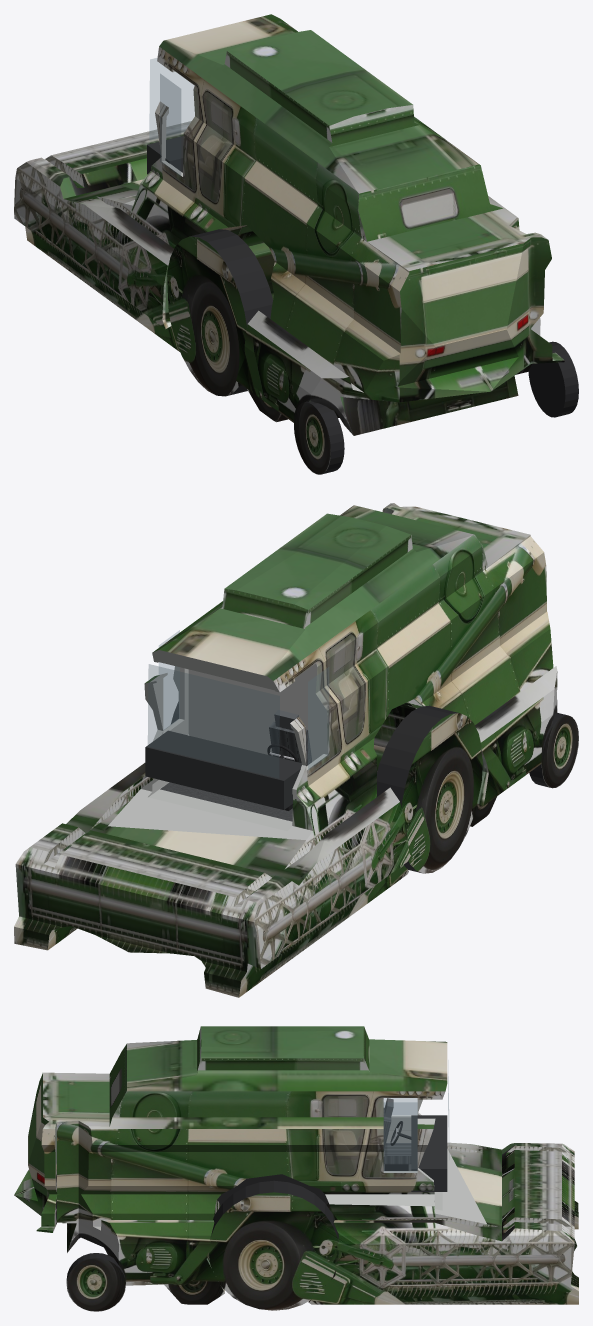
The model's file is combine_harvester.glb.
3 renders of one model, top to bottom at view 1: azimuth 30°, elevation 25°; view 2: azimuth 150°, elevation 25°; view 3: azimuth 270°, elevation 25°, orthographic. The views are drawn at different scales.
Parts seen in each view (by area): view 1: combine_harvester, wheel_FL, combine_harvester_cabin, wheel_BL, wheel_BR; view 2: combine_harvester, combine_harvester_cabin, wheel_FL, wheel_BL; view 3: combine_harvester, wheel_FR, combine_harvester_cabin, wheel_BR, wheel_FL.
Part boxes in pixels (x1,y1,x2,y2): combine_harvester: (14, 14, 564, 435); wheel_FL: (167, 229, 272, 396); combine_harvester_cabin: (147, 58, 194, 176); wheel_BL: (294, 401, 344, 474); wheel_BR: (528, 341, 578, 417); combine_harvester: (14, 503, 557, 997); combine_harvester_cabin: (145, 630, 328, 821); wheel_FL: (377, 705, 482, 873); wheel_BL: (529, 712, 578, 788); combine_harvester: (14, 1026, 578, 1304); wheel_FR: (208, 1180, 338, 1310); combine_harvester_cabin: (383, 1076, 448, 1191); wheel_BR: (66, 1253, 125, 1311); wheel_FL: (217, 1174, 328, 1205).
Bounding box in the file's own units: 3.48 × 3.8 × 8.62.
12 materials, 4 textured.
